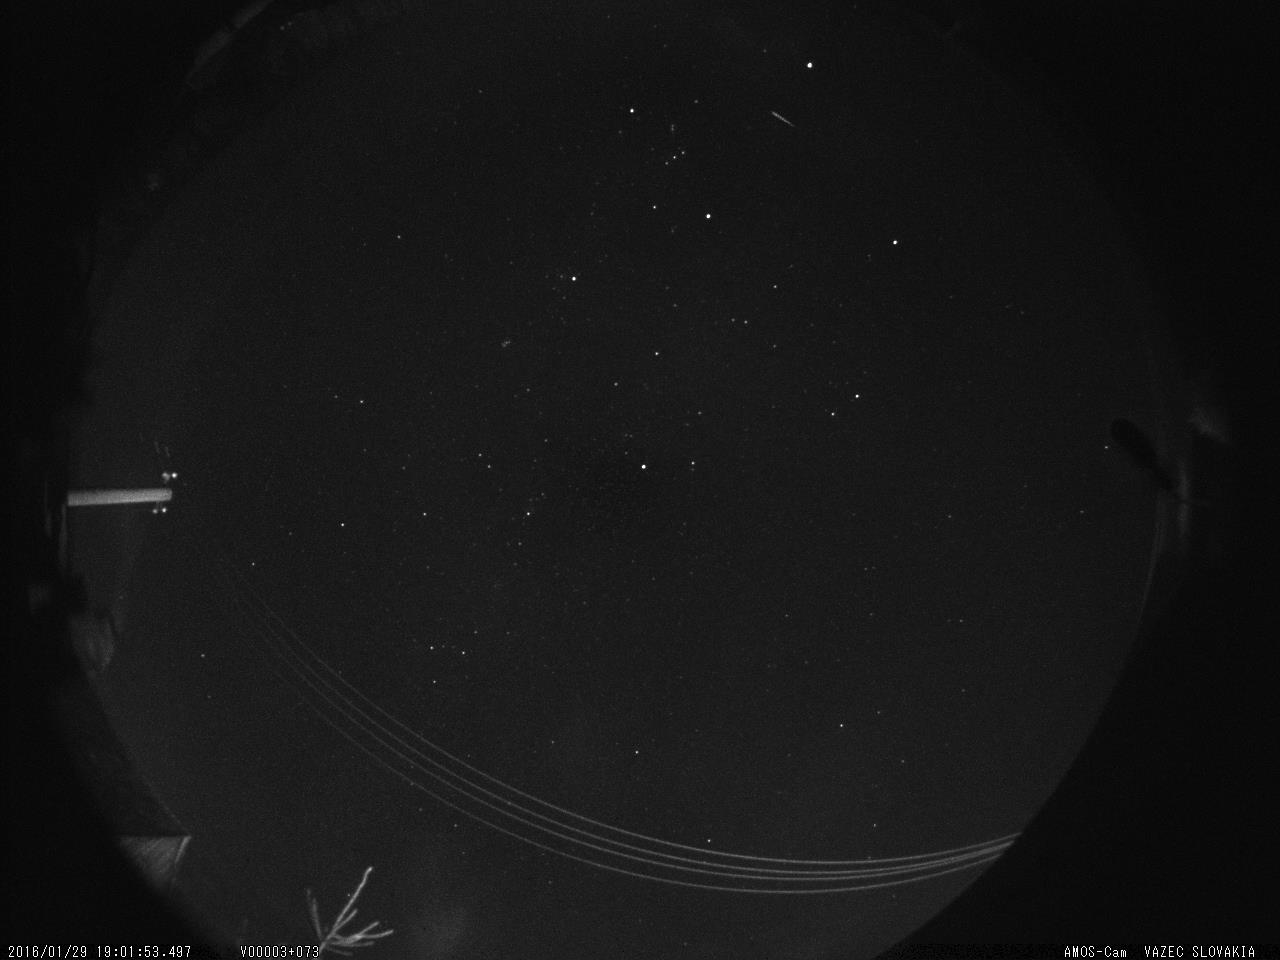meteor: (764, 102, 812, 139)
